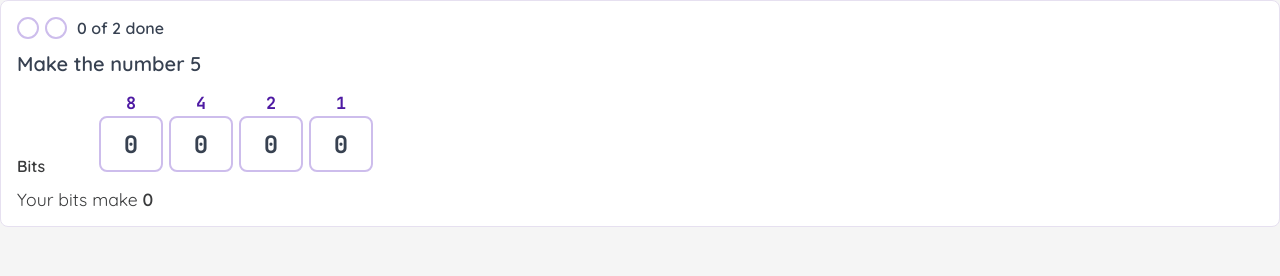
Test: Binary UI › says only "Not yet" for a wrong entry: no hint, no wrong mark, no submit
Click the switch named "Bits 8 column": x=131, y=144 x1=99 y1=116 x2=163 y2=172
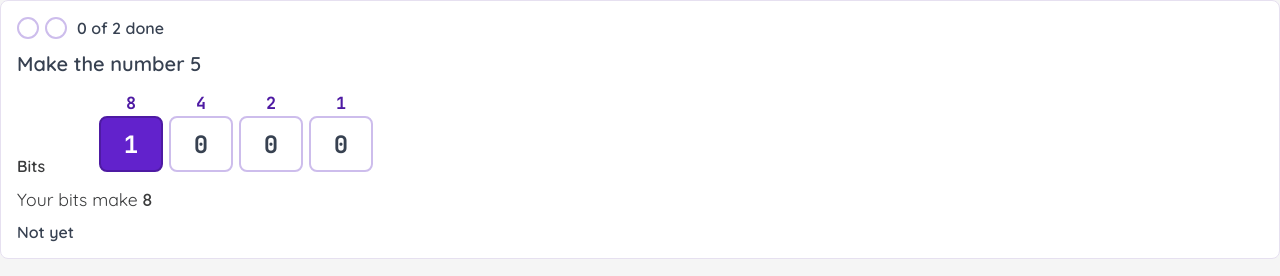
Check: the text "Not yet" is shown, box x1=17 y1=222 x2=74 y2=242
